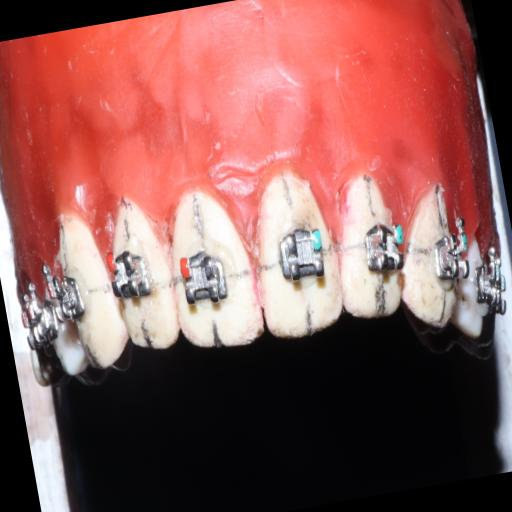incorrect_brace: (174, 243, 234, 316), (272, 220, 332, 290)
